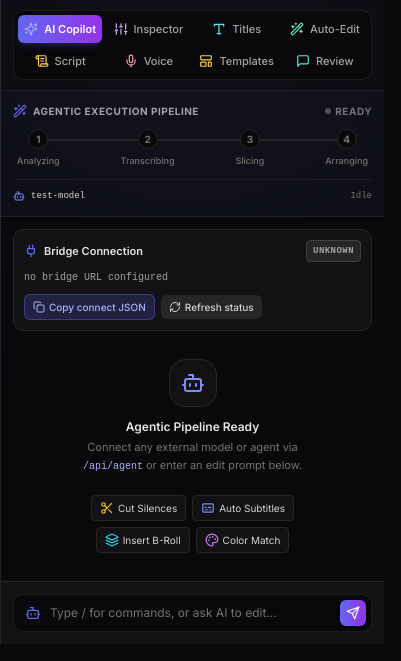
Test: R25.2 — ScriptToVideoPanel › mounts as the Script tab in the copilot console
Click the button "Script" at (60, 61), box top-left (18, 47), bottom-right (102, 75)
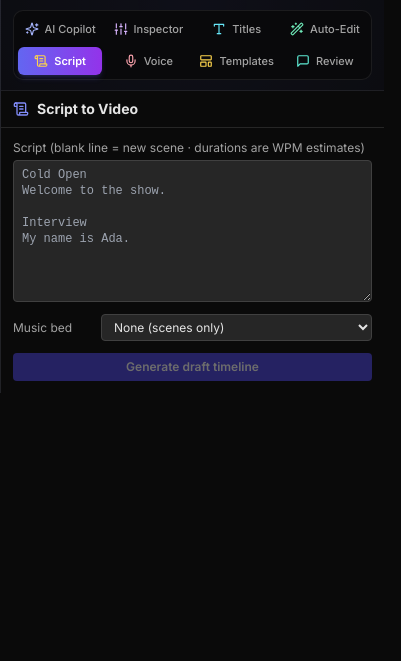
Result: the text box named "Script text" is shown at top-left (13, 160), bottom-right (372, 302)
